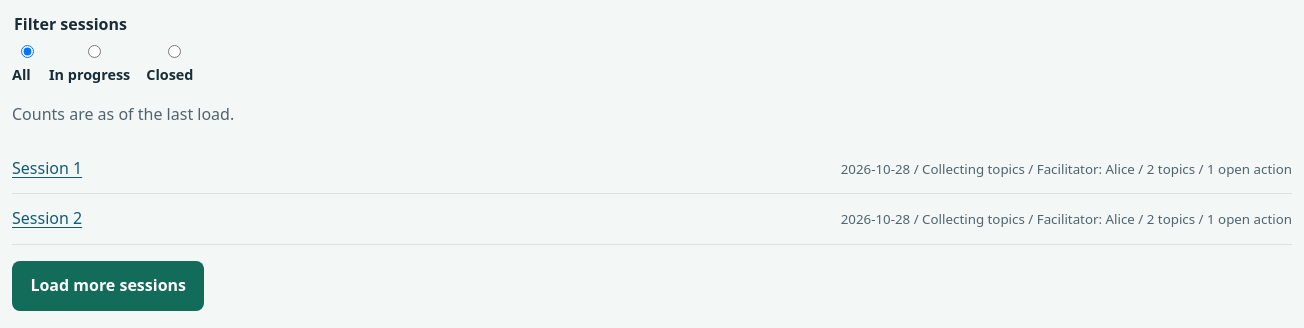
it: SH4: changing the filter restarts from the first page and replaces rows
Expected: the radio button labelled "All" is checked, [17,45,38,58]
Click the radio button labelled "Closed" at point(175, 51), box [151,45,198,58]
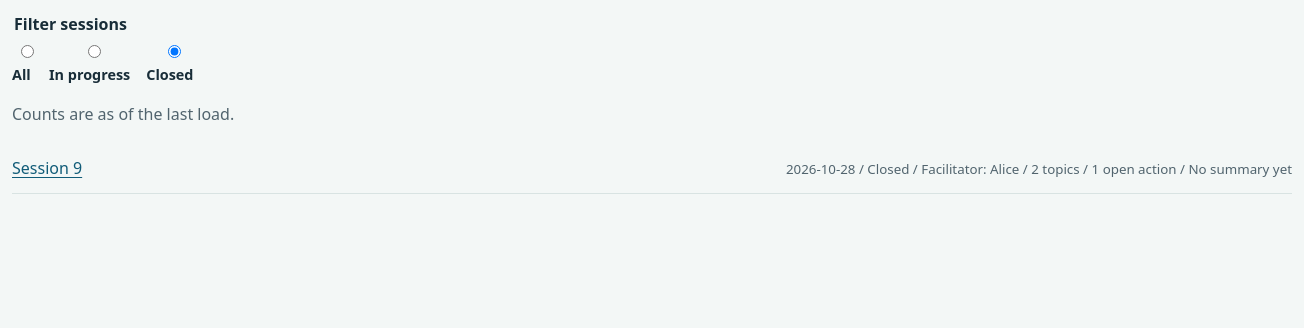
Expected: the radio button labelled "Closed" is checked, [151,45,198,58]
Expected: the links read "Session 9", in this order, [12,156,82,181]
